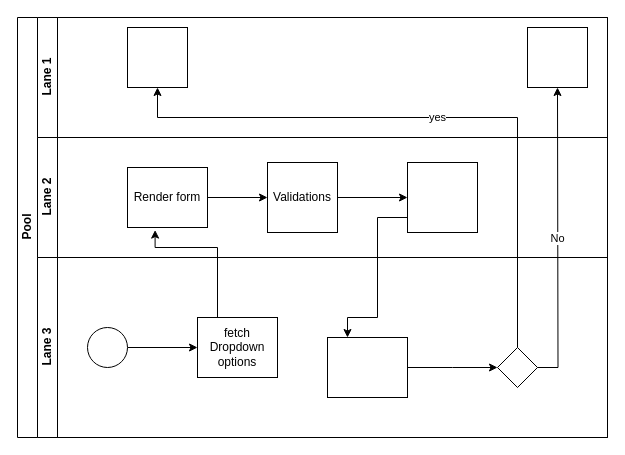
This 625x455 diagram has some shape labels left out. The shapes that lost their labels are listed below. From the top down, each one's centre as x and y in pixels, then its label:
At (157,57): "success sweet alert".
At (557,57): "failure alert".
At (442,197): "Submit form".
At (367,367): "submit data to server".
